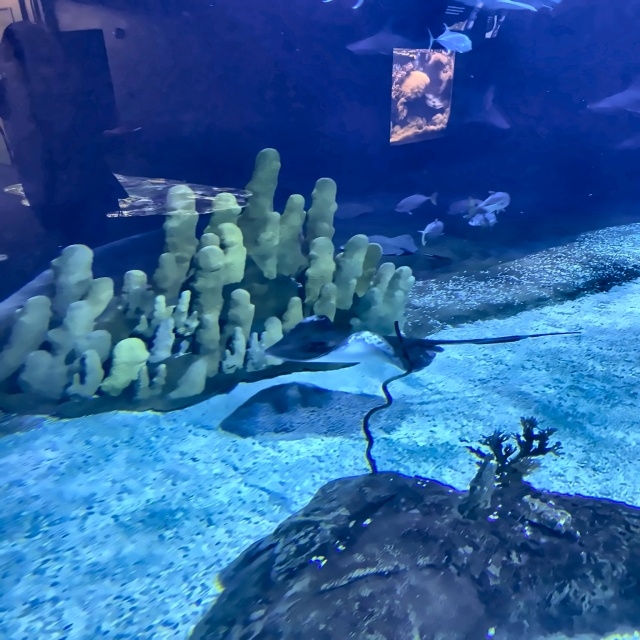fish: (423, 28, 477, 56), (474, 191, 515, 215), (415, 224, 447, 246), (398, 196, 438, 213)
stingray: (278, 316, 445, 375)
